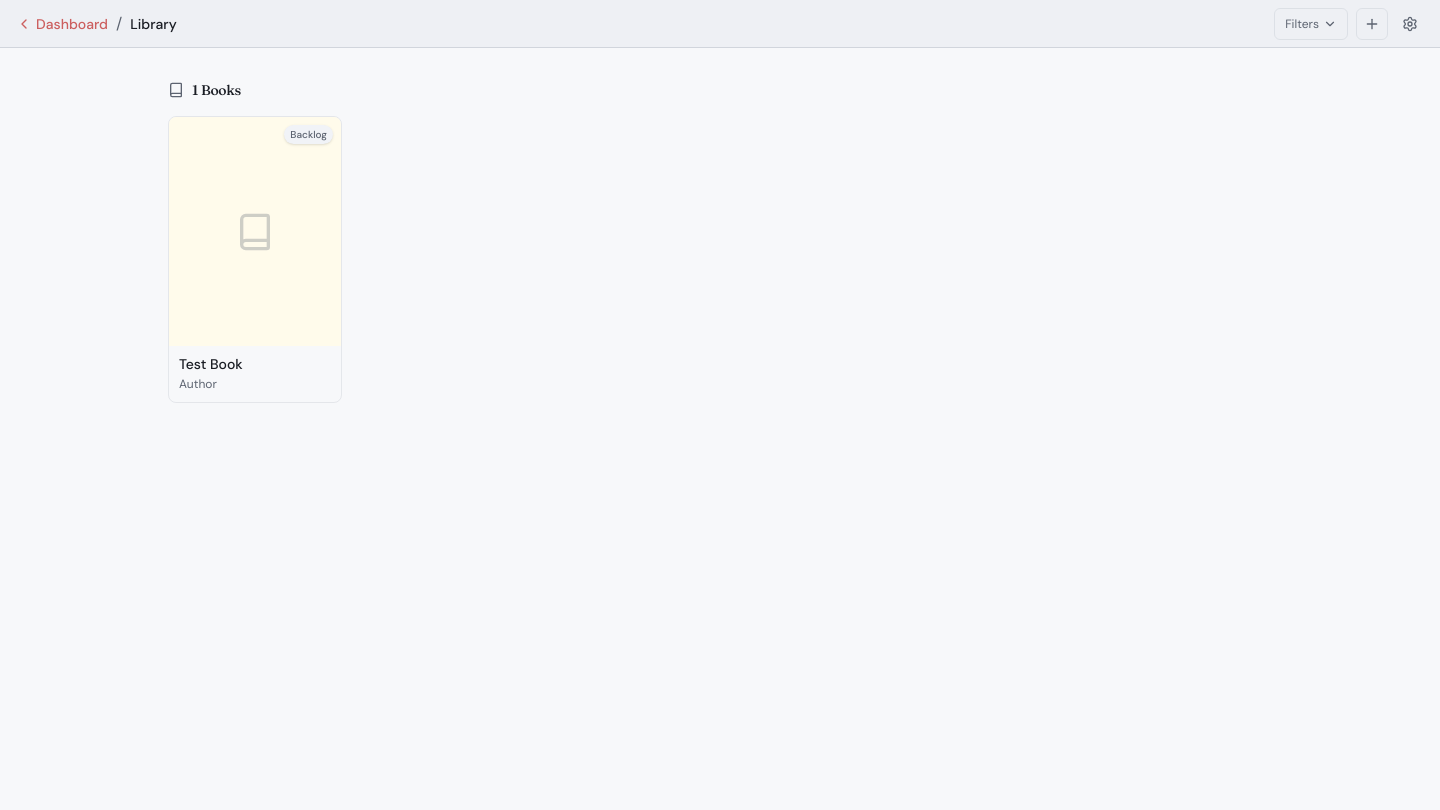
Test: LibraryBrowse › keeps search hidden until the breadcrumb Filters action opens the panel
The image size is (1440, 810).
Expected: the button named "+ New Item" is shown, [1356, 8, 1388, 40]
Expected: the field with placeholder "Search library..." is not shown
Click the button "Filters".
click(1311, 24)  # box [1274, 8, 1348, 40]
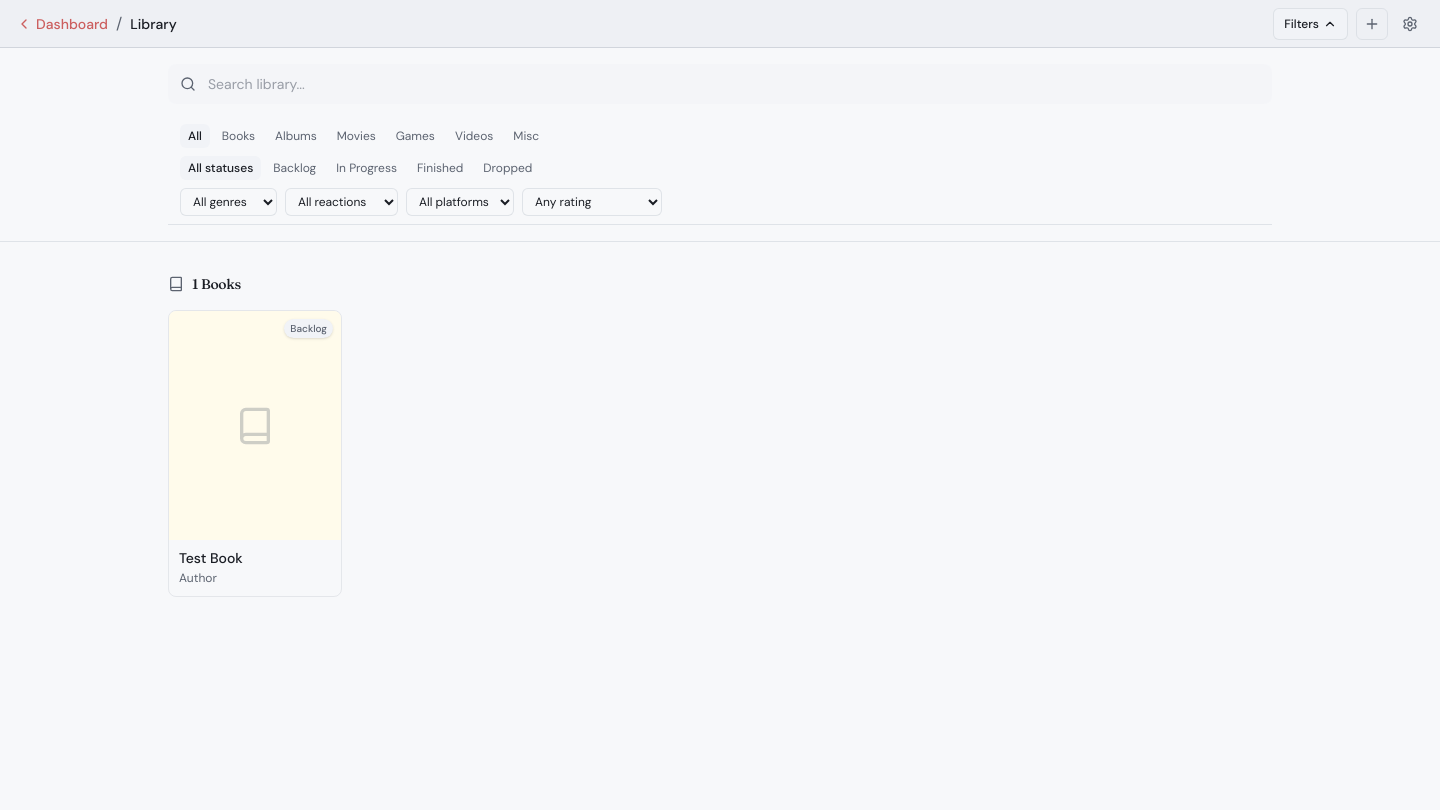
Expected: the field with placeholder "Search library..." is shown, [168, 64, 1272, 104]
Expected: the button "All statuses" is shown, [180, 156, 261, 180]
Expected: the button "Books" is shown, [214, 124, 263, 148]
